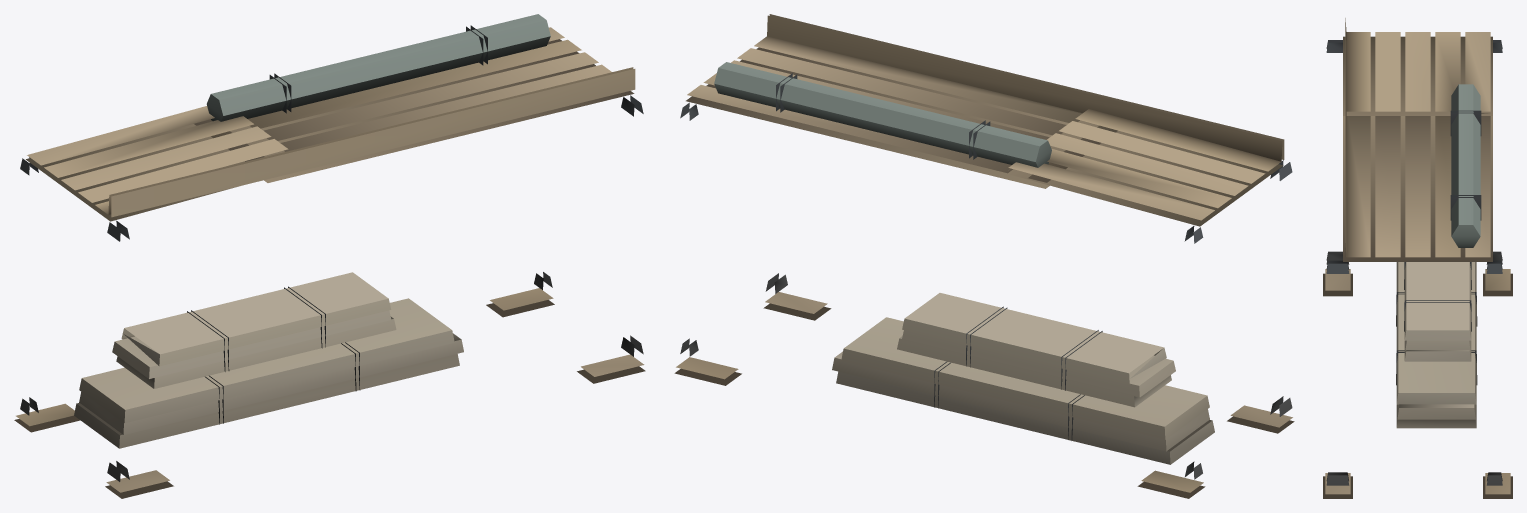
File: scaffold.lod.glb
The picture shows the model from 3 angles, left to right: view 1: azimuth 30°, elevation 25°; view 2: azimuth 150°, elevation 25°; view 3: azimuth 270°, elevation 25°; orthographic projection. The views are drawn at different scales.
Parts seen in each view (by area): view 1: scaffold; view 2: scaffold; view 3: scaffold.
Boxes of the visible parts, left/top/right/bottom form: scaffold: left=14, top=14, right=645, bottom=498; scaffold: left=674, top=14, right=1294, bottom=498; scaffold: left=1323, top=18, right=1512, bottom=498.
Size of the model in its own units: 4 by 2.2 by 1.42.
